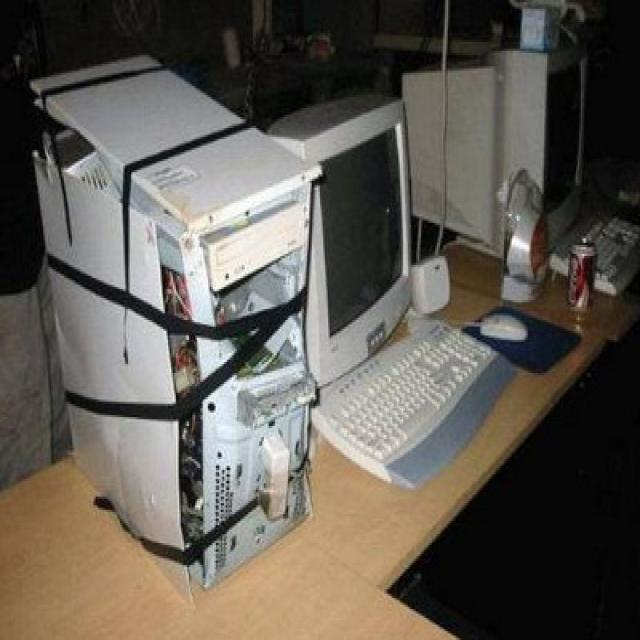computers: (270, 95, 512, 483)
electronics: (32, 57, 318, 594), (32, 57, 298, 232), (267, 95, 406, 386), (315, 320, 514, 483), (443, 49, 584, 252), (190, 342, 307, 583), (32, 55, 234, 185), (486, 49, 586, 247), (318, 132, 403, 333), (443, 66, 501, 249), (410, 49, 446, 311), (202, 199, 306, 287), (462, 302, 576, 369), (130, 146, 221, 221), (550, 212, 638, 289), (498, 170, 547, 298), (402, 68, 440, 223), (402, 71, 440, 223), (502, 170, 544, 274), (237, 373, 314, 426), (45, 146, 118, 196), (43, 128, 107, 185), (512, 0, 586, 46), (259, 430, 288, 516), (565, 238, 595, 309), (410, 256, 446, 313), (520, 2, 558, 44), (522, 0, 587, 18), (483, 313, 525, 335), (221, 29, 237, 66), (176, 364, 197, 388), (514, 0, 566, 9), (219, 181, 237, 201), (218, 137, 234, 146), (58, 130, 69, 137), (296, 324, 299, 326)
